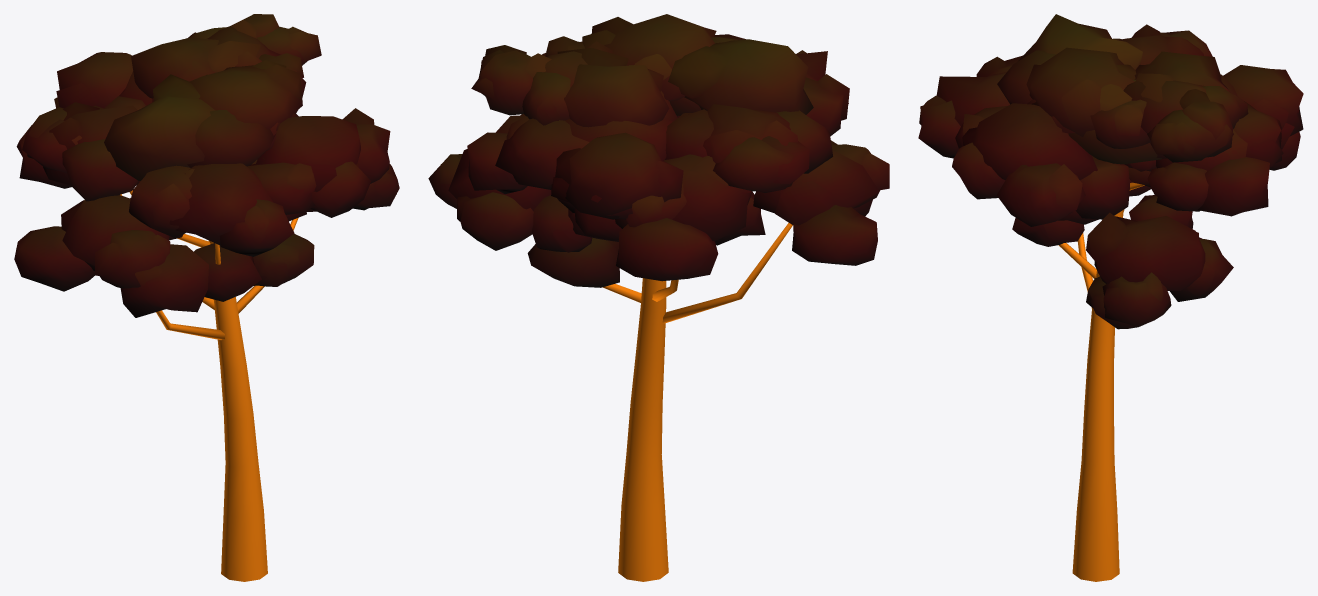
Rendered from Pine_A.fbx.
The picture shows the model from 3 angles, left to right: view 1: azimuth 30°, elevation 25°; view 2: azimuth 150°, elevation 25°; view 3: azimuth 270°, elevation 25°; orthographic projection. The views are drawn at different scales.
Parts seen in each view (by area): view 1: Pine_A; view 2: Pine_A; view 3: Pine_A.
Boxes of the visible parts, box(x1,y1,x2,y2) form: Pine_A: box(14, 14, 399, 581); Pine_A: box(428, 14, 889, 581); Pine_A: box(918, 14, 1303, 581).
Size of the model in its own units: 11.41 by 14.05 by 9.66.
